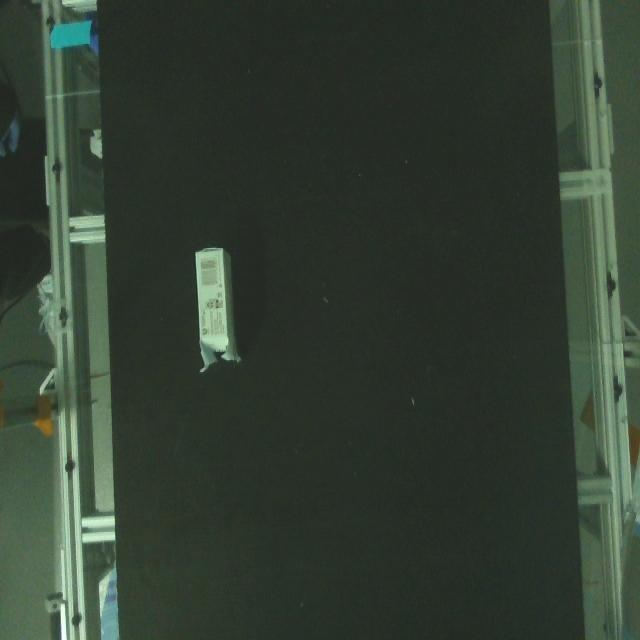paper: (191, 242, 245, 385)
